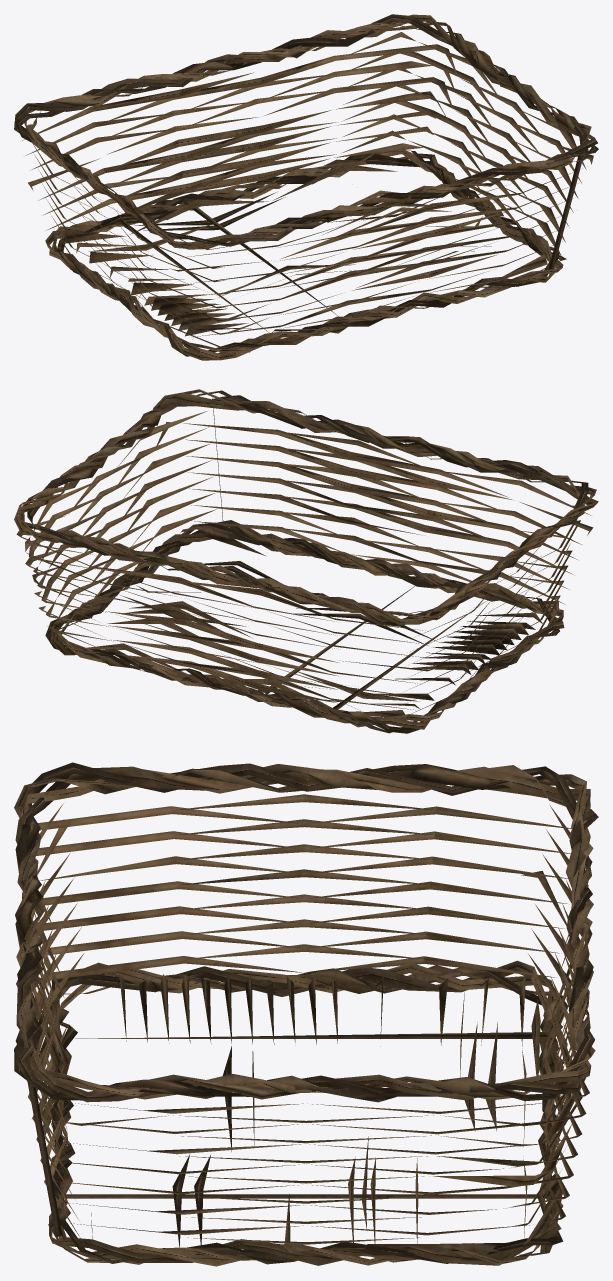
Rendered from basket-0-mid.glb.
3 views of the same model, one above another, from view 1: azimuth 30°, elevation 25°; view 2: azimuth 150°, elevation 25°; view 3: azimuth 270°, elevation 25° (orthographic). The views are drawn at different scales.
Visible parts, largest first — view 1: wicker_basket_01; view 2: wicker_basket_01; view 3: wicker_basket_01.
Boxes of the visible parts, <box> form: wicker_basket_01: <box>14,14,598,360</box>; wicker_basket_01: <box>14,389,598,733</box>; wicker_basket_01: <box>14,762,598,1266</box>.
Size of the model in its own units: 0.383 by 0.1173 by 0.2928.
Materials: 1 (1 with a texture image).
